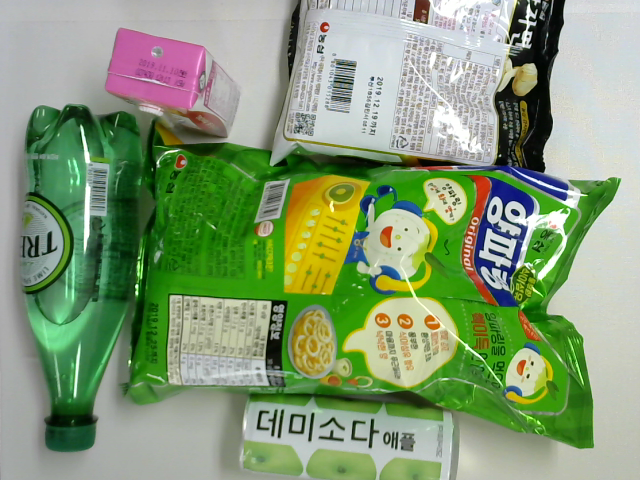Demisoda_Apple_Can_250ml: (238, 391, 460, 480)
Oninon_Ring: (119, 115, 621, 448)
Potato: (267, 1, 565, 173)
Strawberry_E_Mong: (106, 27, 241, 137)
Treviraim_500ml: (19, 104, 146, 453)
